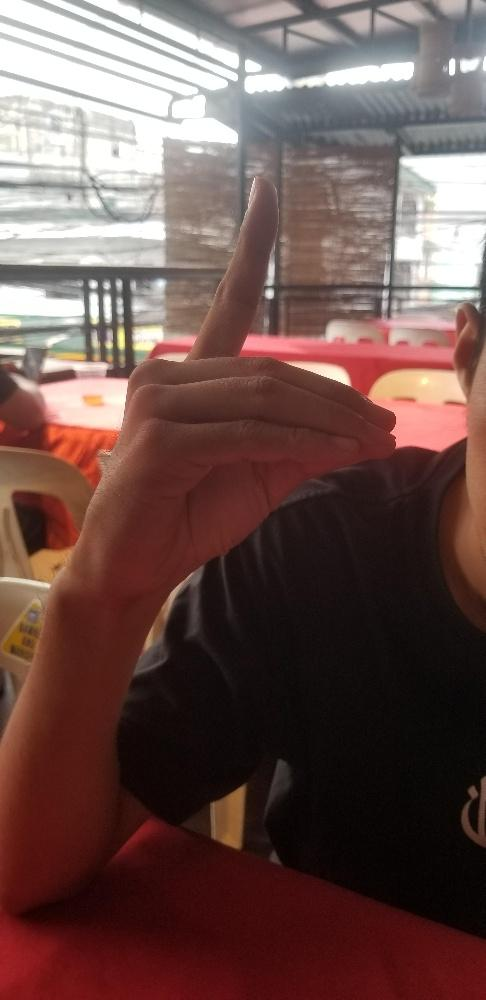d: (84, 170, 402, 598)
